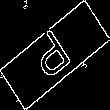P_SE: (29, 24, 81, 86)
